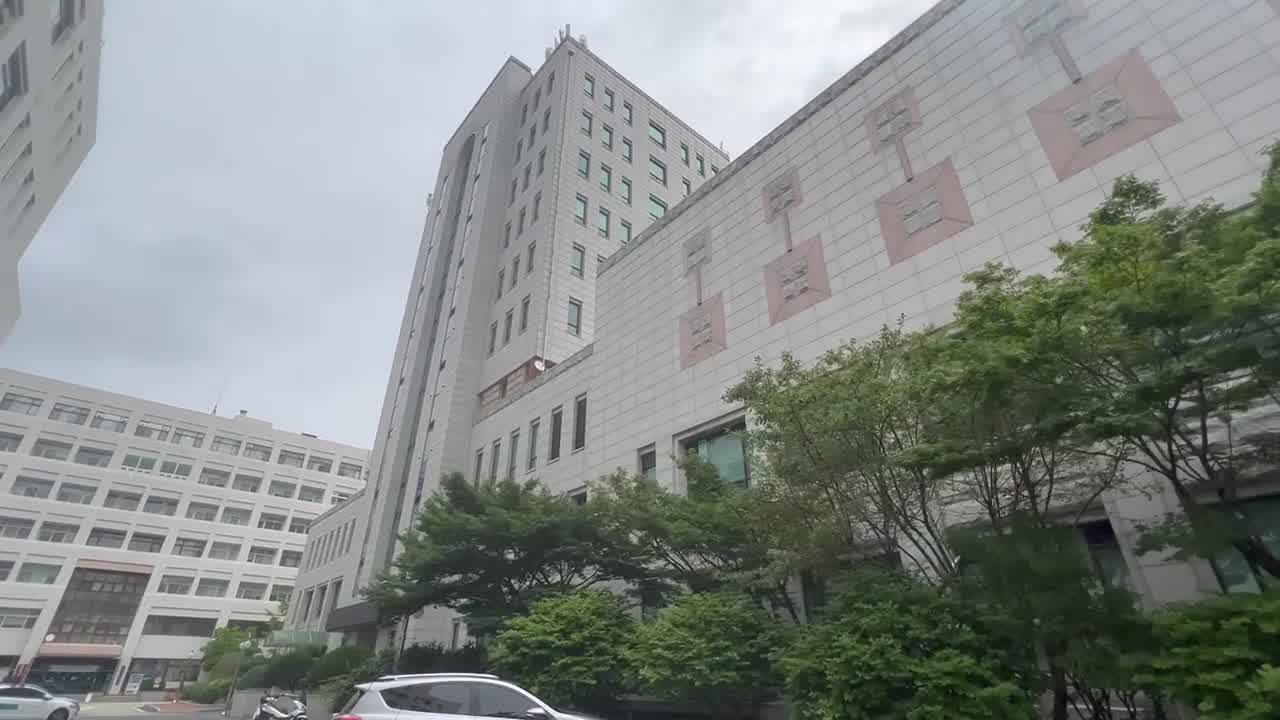building: (390, 21, 907, 378)
